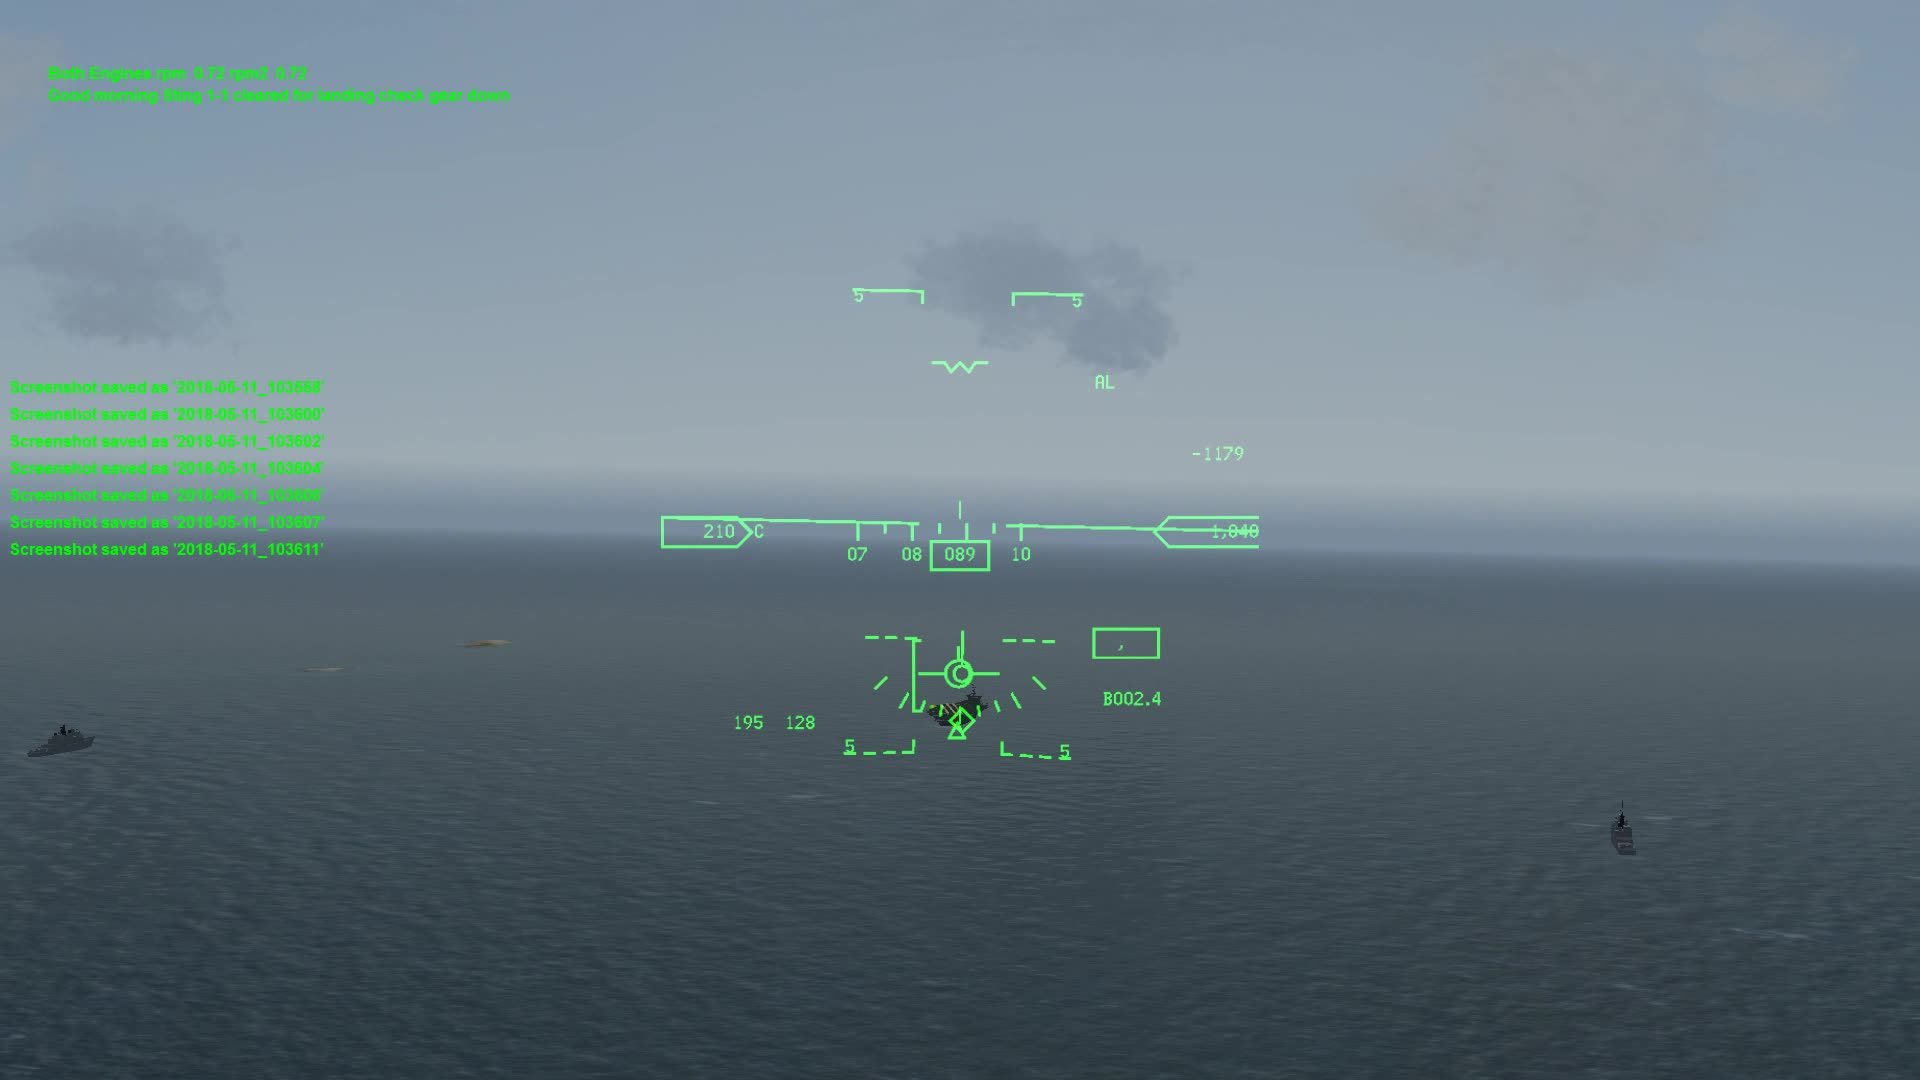speed vector: (915, 628, 1010, 694)
